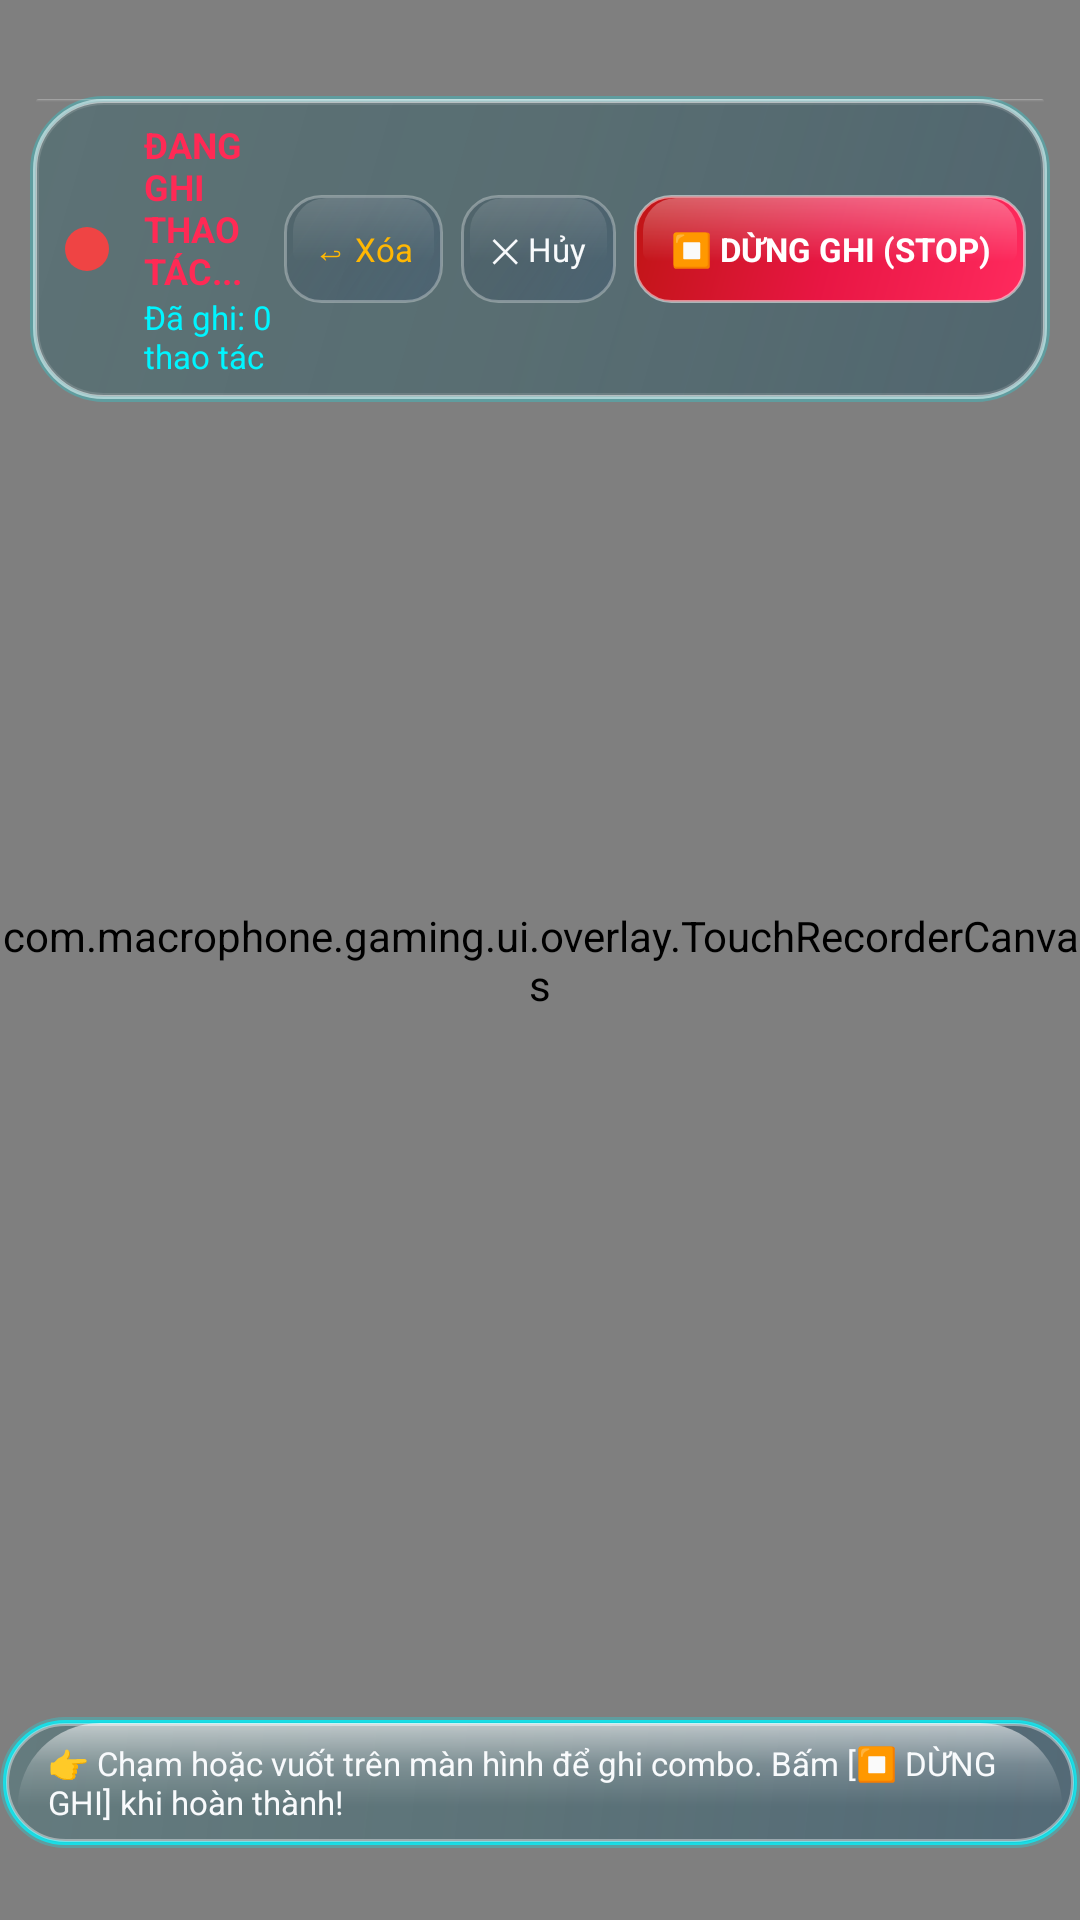

Screen size 1080×1920. Icon name, then its center in pixels as (x,y):
Recording indicator: (87,249)
